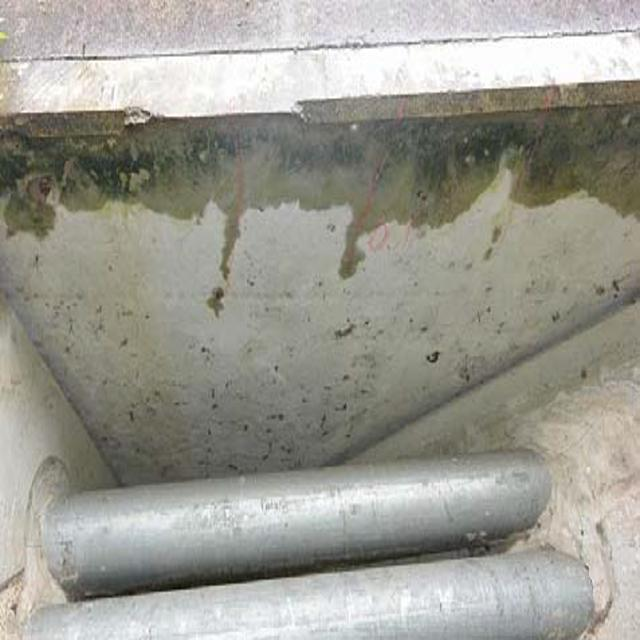leakage: (5, 84, 636, 233)
